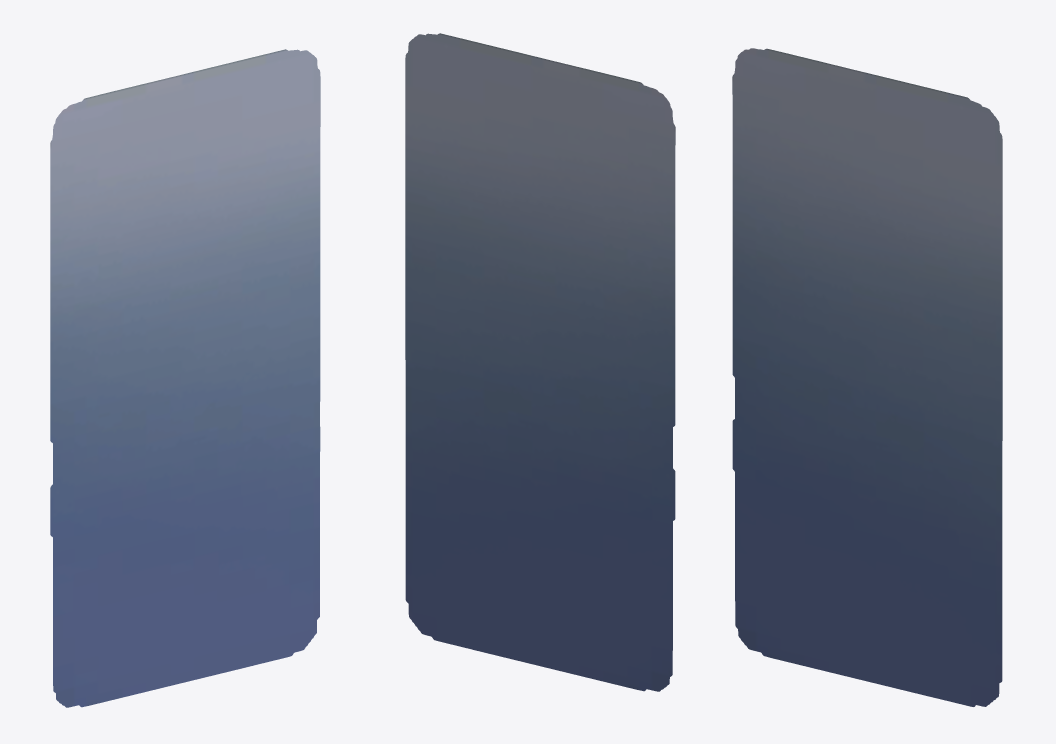
Rendered from Player_Male_Luocha_LookAtPhone_00.fbx.
3 views of the same model, side by side, from view 1: azimuth 30°, elevation 25°; view 2: azimuth 150°, elevation 25°; view 3: azimuth 330°, elevation 25° (orthographic).
Visible parts, largest first — view 1: LookAtPhone_00_Phone_Model; view 2: LookAtPhone_00_Phone_Model; view 3: LookAtPhone_00_Phone_Model.
Part boxes in pixels (x1=…): LookAtPhone_00_Phone_Model: x1=50, y1=49, x2=320, y2=707; LookAtPhone_00_Phone_Model: x1=405, y1=33, x2=675, y2=691; LookAtPhone_00_Phone_Model: x1=732, y1=48, x2=1002, y2=706.
Bounding box in the file's own units: 0.0825 × 0.166 × 0.0101.
Materials: 1 (1 with a texture image).
